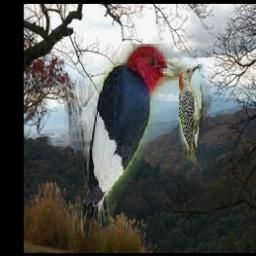Woodpecker: (64, 44, 187, 238), (178, 65, 211, 167)
